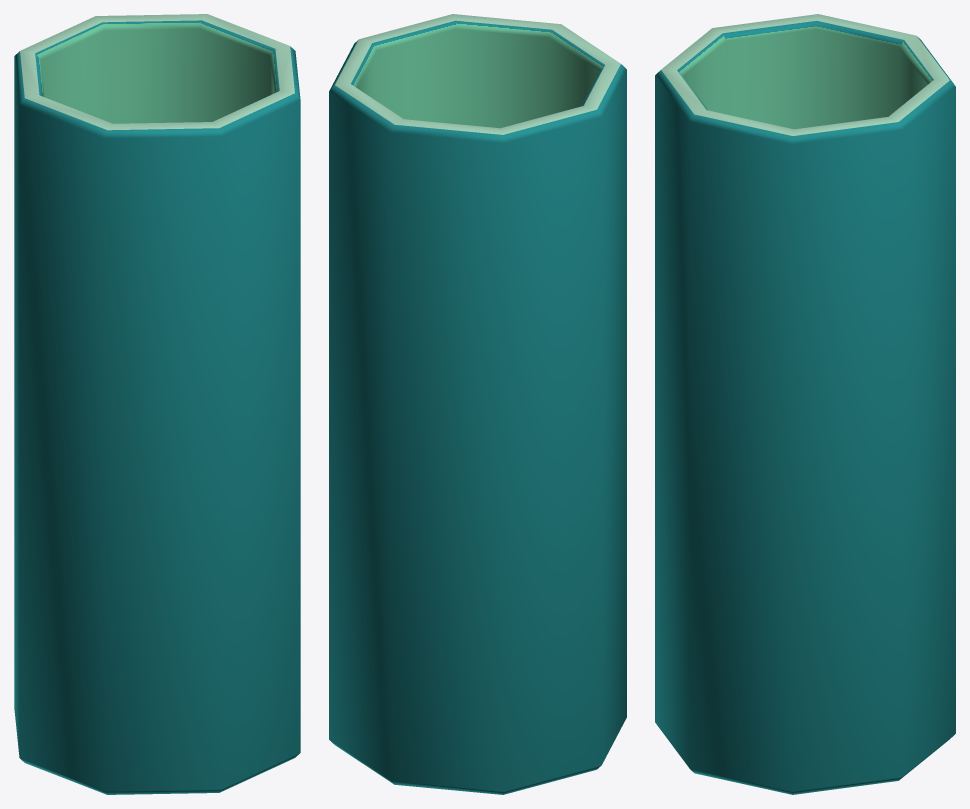
File: SM_Cup.fbx
3 renders of one model, left to right at view 1: azimuth 30°, elevation 25°; view 2: azimuth 150°, elevation 25°; view 3: azimuth 270°, elevation 25°, orthographic.
Visible parts, largest first — view 1: SM_Cup; view 2: SM_Cup; view 3: SM_Cup.
Boxes of the visible parts, x1,y1,x2,y2 form: SM_Cup: (14, 14, 300, 794); SM_Cup: (329, 14, 626, 794); SM_Cup: (655, 14, 955, 794).
Size of the model in its own units: 8.17 by 8.17 by 19.76.
1 material, 1 textured.
